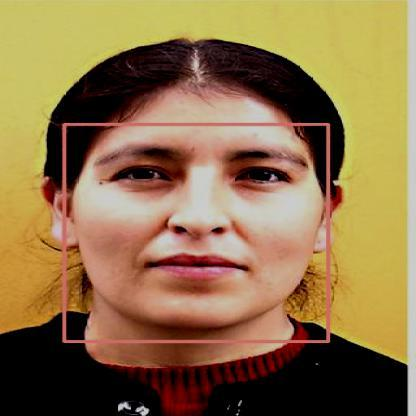without_mask: (64, 124, 328, 341)
